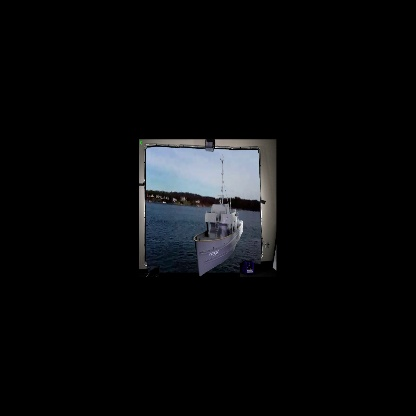YP689: (193, 155, 243, 276)
